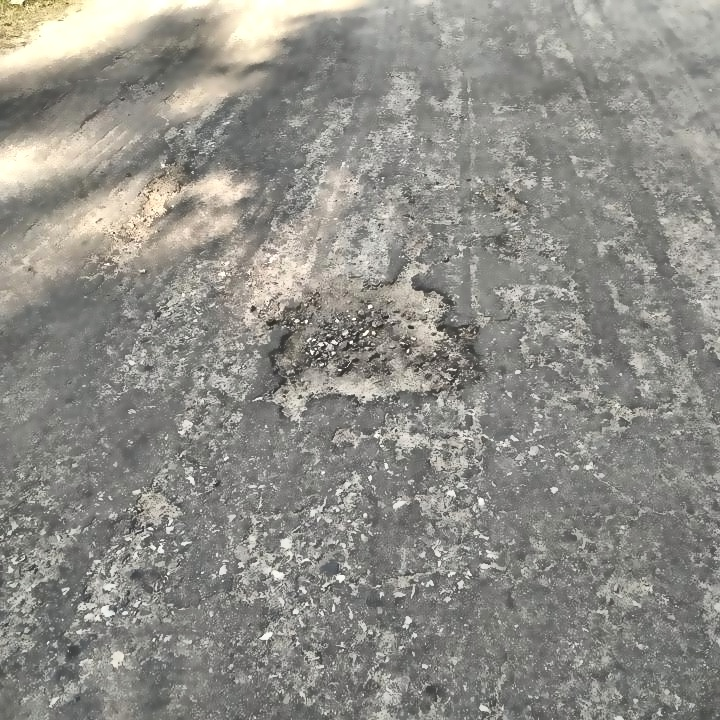pothole: (256, 262, 493, 420), (131, 486, 190, 533)
